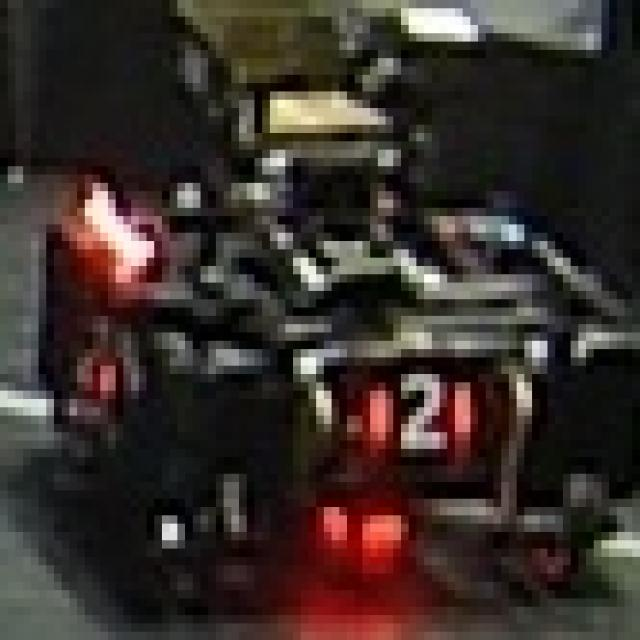R2: (347, 349, 486, 457), (54, 299, 131, 407)
